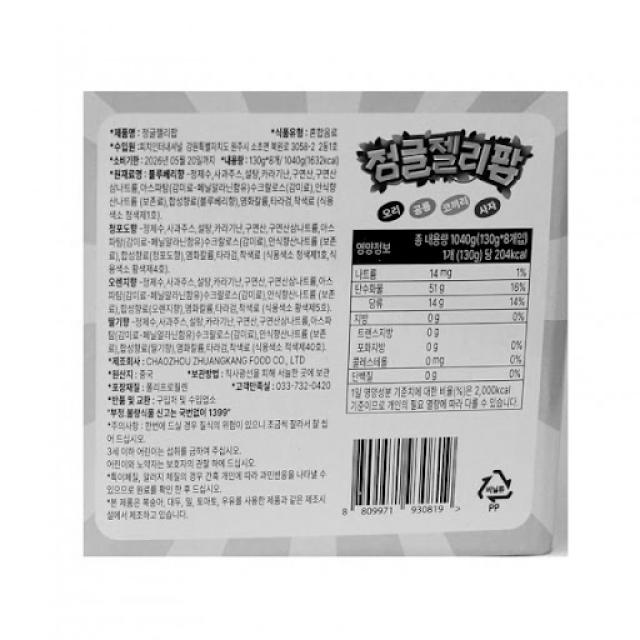Nutrition Label: (338, 220, 540, 421)
